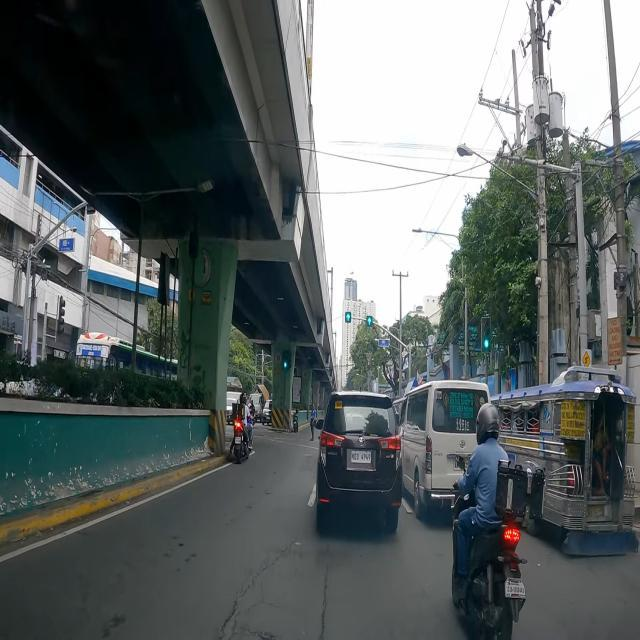bus: (76, 333, 178, 381)
car: (400, 380, 490, 520), (314, 392, 402, 534)
jeepney: (492, 366, 640, 555)
motorcycle: (452, 403, 546, 640), (230, 393, 252, 463), (248, 400, 256, 427), (290, 408, 298, 434)
truck: (248, 388, 264, 422)
